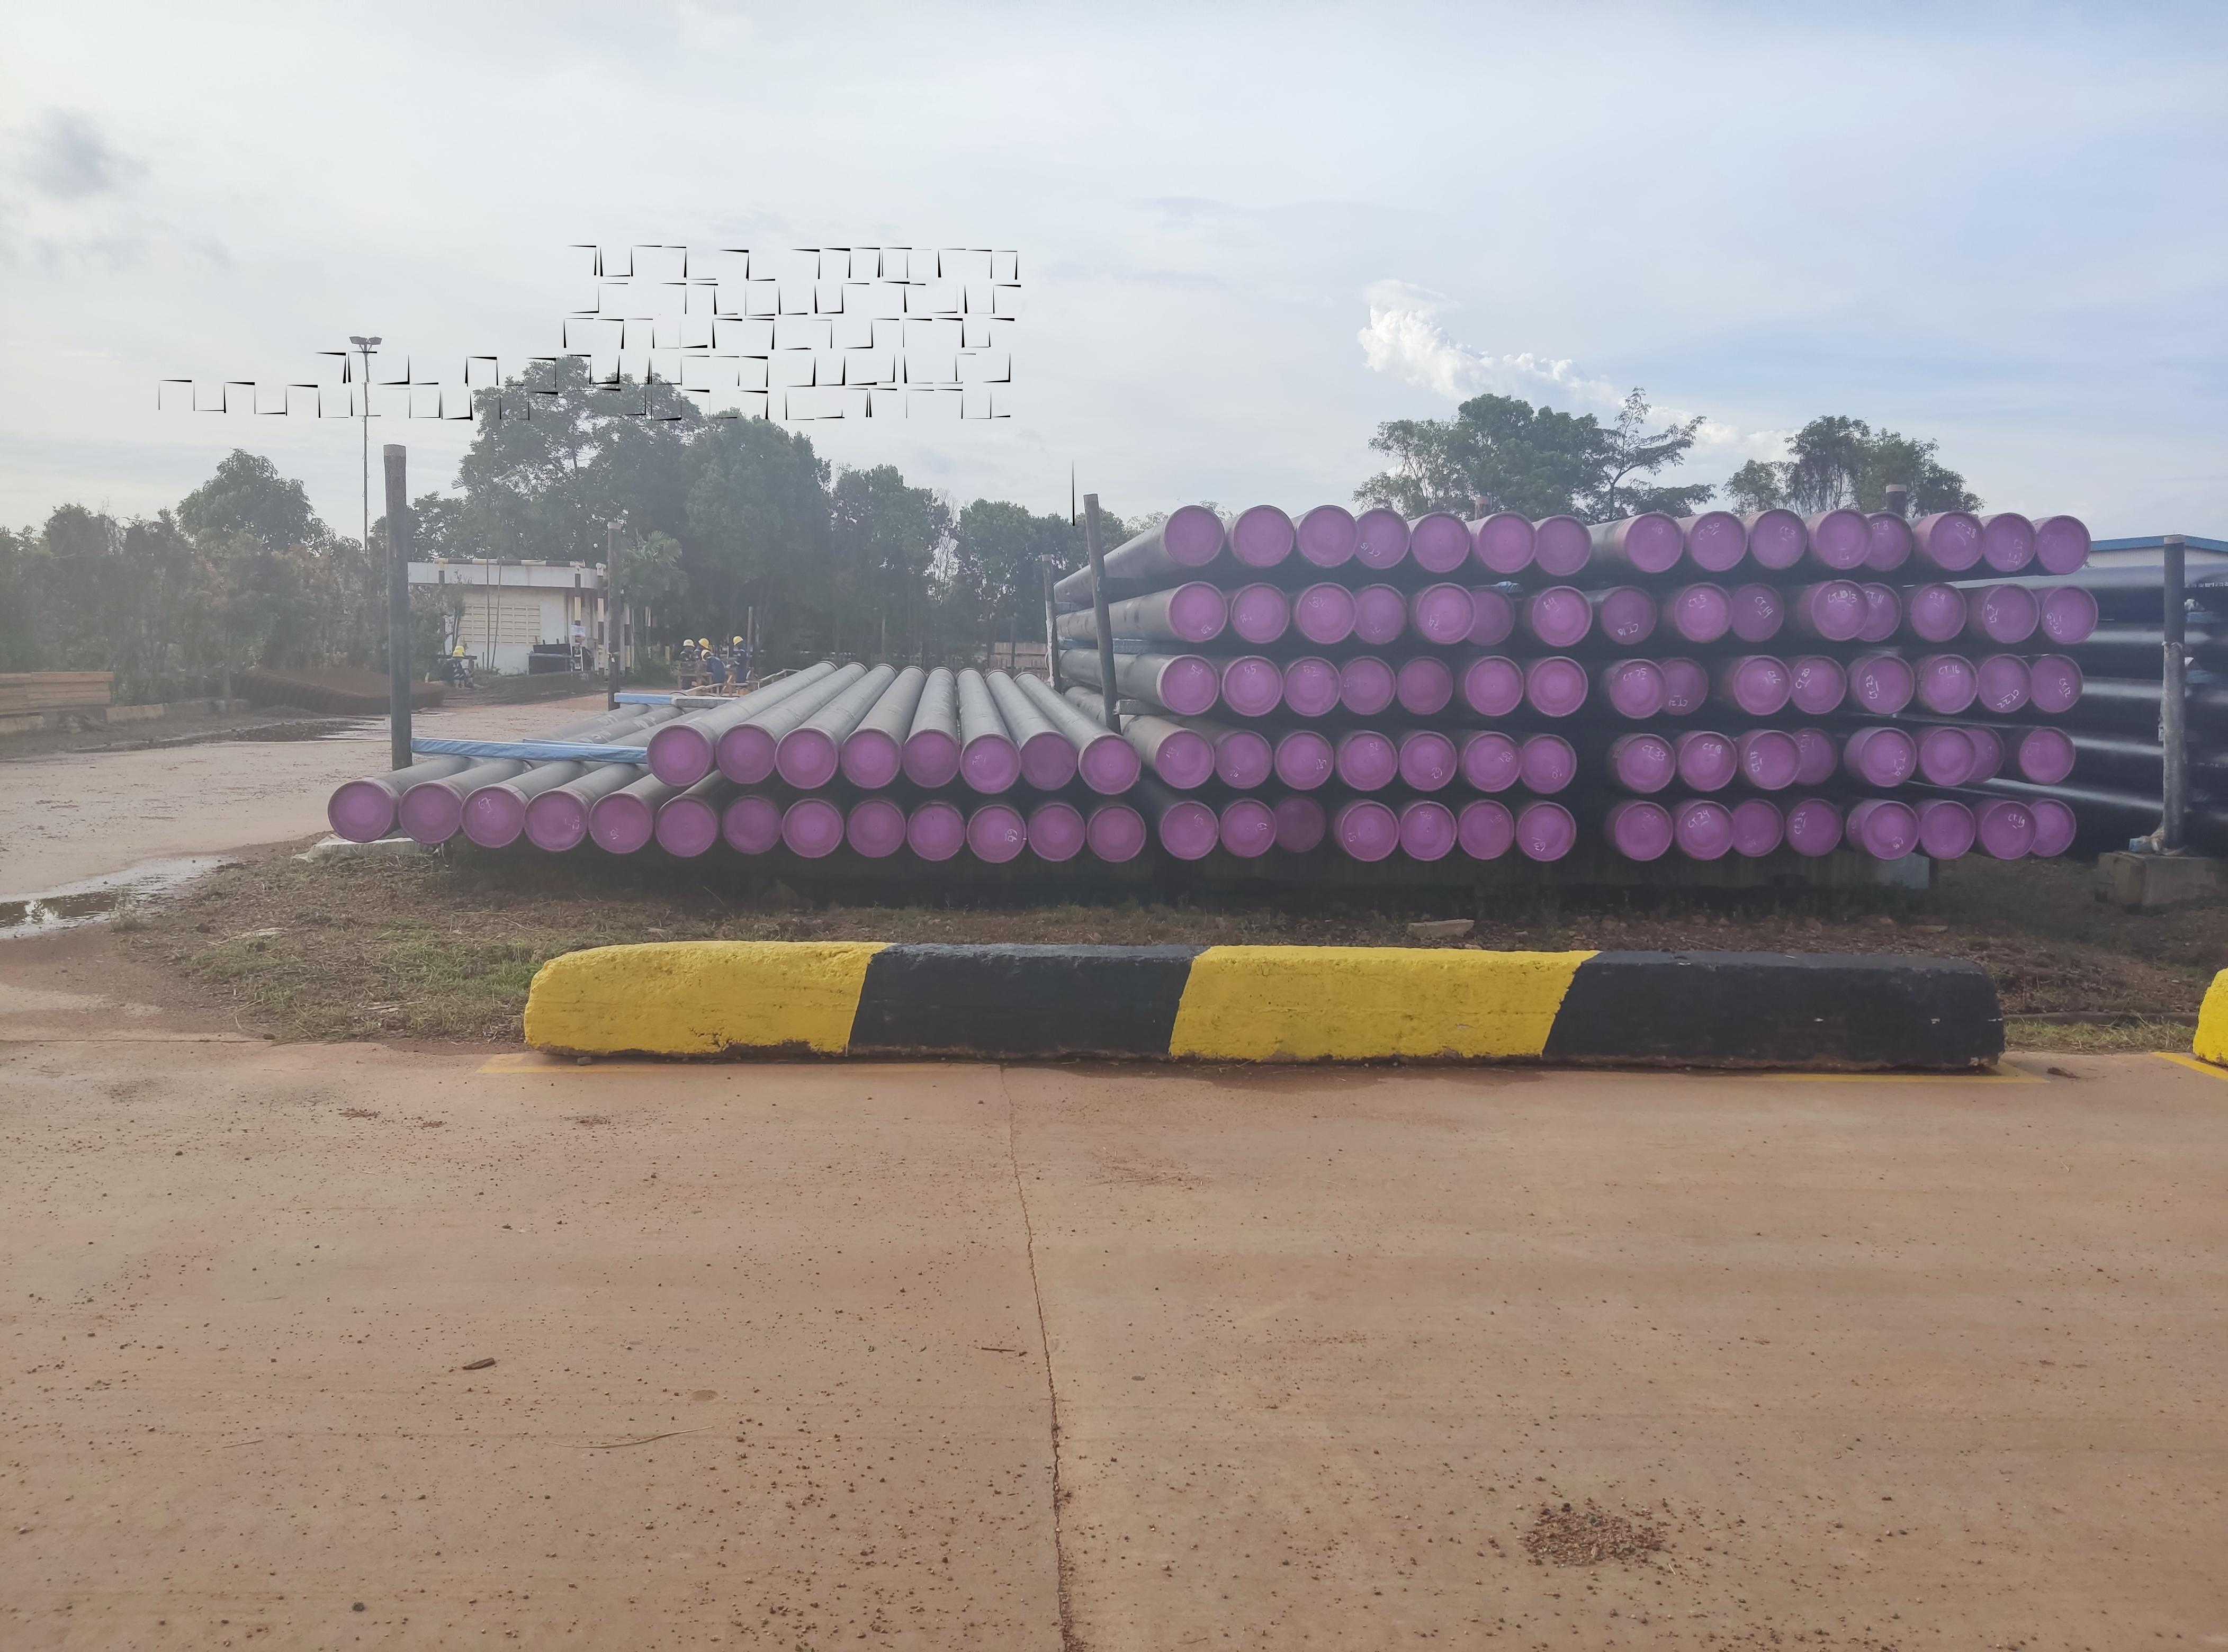pipe: (397, 779, 462, 845), (326, 781, 394, 843), (588, 791, 652, 854), (645, 725, 710, 788), (460, 786, 522, 849), (1298, 505, 1360, 567), (1527, 656, 1589, 718), (776, 729, 840, 790), (1296, 581, 1357, 646), (1234, 505, 1294, 569), (1079, 736, 1142, 796), (1411, 512, 1471, 574), (715, 724, 776, 786), (1532, 587, 1593, 649), (654, 798, 717, 859), (1338, 802, 1399, 864), (524, 790, 586, 850), (1159, 654, 1220, 715), (1164, 505, 1225, 566), (840, 729, 901, 790), (960, 734, 1020, 795), (1465, 656, 1525, 717), (1732, 656, 1792, 717), (1855, 654, 1916, 715), (1615, 734, 1676, 795), (783, 798, 843, 859), (1749, 508, 1808, 571), (1230, 581, 1289, 644), (1170, 581, 1229, 644), (1518, 732, 1577, 795), (1282, 656, 1341, 718), (1475, 514, 1537, 573), (1810, 580, 1869, 642), (1353, 581, 1411, 646), (908, 802, 967, 862), (1274, 731, 1334, 790), (1813, 508, 1872, 569), (1919, 654, 1978, 715), (1416, 583, 1475, 644), (1624, 512, 1683, 573), (1676, 800, 1735, 861), (1399, 802, 1458, 862), (1156, 729, 1215, 790), (722, 796, 783, 855), (1688, 510, 1747, 571), (967, 805, 1027, 864), (1674, 583, 1733, 644), (1517, 803, 1577, 862), (1223, 656, 1282, 717), (1742, 731, 1801, 791), (1858, 727, 1917, 788), (1919, 727, 1978, 788), (1614, 802, 1673, 862), (1086, 805, 1147, 864), (1919, 800, 1978, 861), (1336, 732, 1399, 790), (1910, 581, 1968, 644), (847, 800, 906, 859), (1215, 731, 1274, 790), (1159, 802, 1218, 861), (1600, 587, 1659, 646), (1609, 659, 1668, 718), (1399, 732, 1458, 791), (1678, 732, 1737, 791), (1027, 803, 1086, 862), (1463, 732, 1520, 793), (1982, 583, 2039, 644), (1791, 654, 1848, 715), (1536, 515, 1593, 576), (1355, 507, 1411, 569), (1730, 581, 1786, 644), (1020, 732, 1078, 791), (902, 729, 960, 788), (1928, 512, 1985, 571), (2041, 585, 2098, 644), (1397, 656, 1454, 715), (1786, 798, 1843, 857), (1980, 802, 2037, 861), (1220, 798, 1275, 859), (2020, 725, 2075, 786), (1340, 656, 1395, 717), (1458, 802, 1515, 859), (1862, 802, 1919, 859), (1983, 514, 2037, 573), (2030, 654, 2084, 713), (1978, 654, 2032, 713), (1730, 798, 1784, 857), (2037, 515, 2089, 574), (1275, 796, 1327, 854), (1659, 658, 1709, 717), (1864, 512, 1914, 571), (1468, 588, 1515, 647), (1792, 727, 1839, 786), (2030, 798, 2075, 857), (1858, 583, 1902, 642), (1964, 727, 2006, 784), (2204, 942, 2211, 1081)
